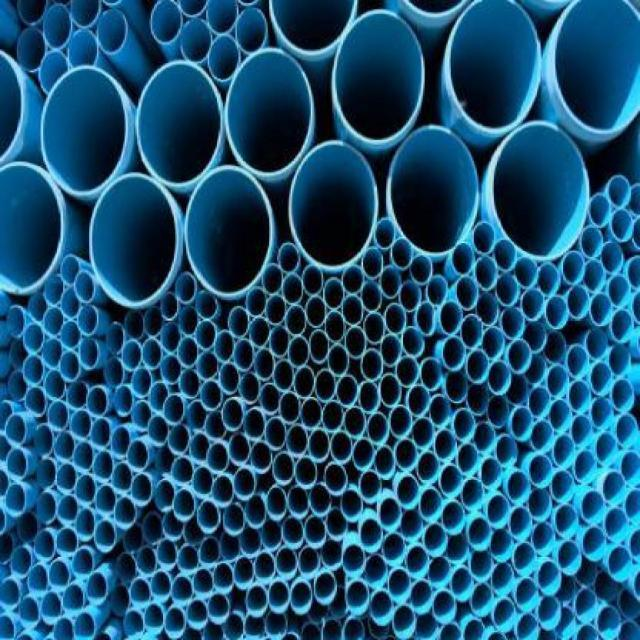pipe: (490, 122, 589, 261), (445, 1, 542, 135), (332, 9, 424, 145), (387, 124, 479, 258), (89, 174, 180, 308), (549, 0, 638, 135), (289, 142, 379, 273), (185, 166, 273, 299), (40, 65, 127, 198), (225, 47, 313, 177), (136, 60, 222, 188), (0, 162, 64, 295), (268, 0, 358, 57), (0, 44, 32, 167), (208, 33, 241, 81), (180, 17, 213, 64), (149, 0, 183, 44), (235, 9, 268, 54), (96, 8, 127, 55), (44, 3, 74, 50), (17, 27, 47, 72), (38, 50, 68, 95), (67, 30, 98, 68), (206, 0, 238, 35), (595, 604, 622, 640), (608, 546, 633, 583), (560, 251, 587, 285), (566, 285, 591, 321), (442, 335, 467, 371), (508, 339, 533, 375), (509, 505, 534, 541), (604, 508, 629, 544), (582, 526, 607, 562), (382, 532, 407, 568), (557, 540, 582, 576), (537, 560, 562, 596), (515, 577, 540, 613), (346, 581, 371, 617), (492, 598, 517, 634), (589, 292, 614, 327), (71, 0, 101, 29), (600, 241, 625, 275), (495, 272, 520, 306), (606, 274, 631, 308), (456, 276, 481, 310), (544, 296, 569, 330), (466, 350, 491, 384), (610, 378, 635, 412), (529, 454, 554, 488), (461, 478, 486, 512), (486, 495, 511, 529), (196, 500, 221, 534), (442, 501, 467, 535), (555, 504, 580, 538), (467, 517, 492, 551), (359, 519, 384, 553), (423, 523, 448, 557), (342, 543, 367, 577), (469, 549, 494, 583), (432, 591, 457, 625), (392, 606, 417, 640), (475, 255, 498, 291), (583, 258, 606, 294), (440, 300, 463, 336), (489, 361, 512, 397), (379, 373, 402, 409), (510, 406, 533, 442), (574, 448, 597, 484), (603, 471, 626, 507), (4, 482, 27, 518), (365, 554, 388, 590), (491, 561, 514, 597), (268, 578, 291, 614), (410, 579, 433, 615), (575, 587, 598, 623), (538, 595, 561, 631), (514, 256, 539, 289), (520, 288, 545, 321), (500, 307, 525, 340), (522, 321, 547, 354), (396, 355, 421, 388), (405, 384, 430, 417), (528, 387, 553, 420), (551, 471, 576, 504), (507, 471, 532, 504), (527, 488, 552, 521), (489, 529, 514, 562), (428, 556, 453, 589), (375, 445, 397, 481), (309, 483, 331, 519), (451, 567, 473, 603), (0, 577, 22, 613), (371, 590, 393, 626), (40, 591, 62, 627), (608, 175, 631, 209), (537, 262, 560, 296), (477, 292, 500, 326), (611, 309, 634, 343), (482, 326, 505, 360), (429, 394, 452, 428), (549, 400, 572, 434), (5, 412, 28, 446), (616, 413, 639, 447), (434, 429, 457, 463), (595, 432, 618, 466), (553, 434, 576, 468), (352, 437, 375, 471), (395, 438, 418, 472), (417, 451, 440, 485), (324, 462, 347, 496), (440, 464, 463, 498), (359, 470, 382, 504), (397, 475, 420, 509), (581, 491, 604, 525), (114, 496, 137, 530), (379, 498, 402, 532), (304, 515, 327, 549), (532, 522, 555, 556), (513, 543, 536, 577), (10, 545, 33, 579), (407, 546, 430, 580), (389, 569, 412, 603), (314, 572, 337, 606), (471, 583, 494, 617), (164, 606, 187, 640), (445, 534, 470, 565), (593, 572, 618, 603), (461, 314, 483, 349), (580, 225, 603, 258), (452, 242, 475, 275), (546, 364, 569, 397), (467, 384, 490, 417), (591, 397, 614, 430), (47, 399, 70, 432), (390, 405, 413, 438), (531, 420, 554, 453), (473, 422, 496, 455), (287, 424, 310, 457), (207, 442, 230, 475), (480, 457, 503, 490), (420, 489, 443, 522), (282, 517, 305, 550), (239, 525, 262, 558), (245, 585, 268, 618), (17, 595, 40, 628), (246, 494, 267, 530), (17, 1, 47, 26), (588, 192, 610, 226), (611, 208, 633, 242), (379, 265, 401, 299), (322, 276, 344, 310), (324, 310, 346, 344), (608, 343, 630, 377), (567, 345, 589, 379), (420, 358, 442, 392), (590, 361, 612, 395), (315, 369, 337, 403), (568, 379, 590, 413), (358, 380, 380, 414), (487, 396, 509, 430), (301, 397, 323, 431), (221, 399, 243, 433), (367, 412, 389, 446), (265, 418, 287, 452), (308, 429, 330, 463), (331, 430, 353, 464), (496, 435, 518, 469), (457, 443, 479, 477), (6, 447, 28, 481), (272, 453, 294, 487), (234, 468, 256, 502), (287, 485, 309, 519), (340, 488, 362, 522), (326, 508, 348, 542), (74, 509, 96, 543), (260, 519, 282, 553), (34, 528, 56, 562), (275, 547, 297, 581), (254, 550, 276, 584), (291, 581, 313, 615), (555, 606, 577, 640), (391, 238, 413, 271), (361, 247, 383, 280), (261, 263, 283, 296), (75, 271, 97, 304), (361, 280, 383, 313), (305, 295, 327, 328), (285, 304, 307, 337), (364, 311, 386, 344), (345, 326, 367, 359), (585, 328, 607, 361), (545, 331, 567, 364), (380, 335, 402, 368), (288, 335, 310, 368), (42, 336, 64, 369), (361, 348, 383, 381), (293, 365, 315, 398), (238, 372, 260, 405), (336, 375, 358, 408), (278, 391, 300, 424), (322, 401, 344, 434), (245, 408, 267, 441), (454, 409, 476, 442), (571, 415, 593, 448), (55, 462, 77, 495), (191, 466, 213, 499), (212, 475, 234, 508), (400, 509, 422, 542), (298, 546, 320, 579), (116, 551, 138, 584), (617, 588, 639, 621), (6, 304, 26, 340), (309, 329, 329, 365), (189, 432, 210, 466), (229, 432, 250, 466), (224, 503, 245, 537), (95, 519, 116, 553), (87, 572, 108, 606), (410, 254, 433, 285), (399, 282, 422, 313), (59, 320, 82, 351), (402, 327, 425, 358), (23, 354, 46, 385), (445, 372, 468, 403), (200, 380, 223, 411), (17, 513, 40, 544), (56, 527, 79, 558), (342, 294, 364, 326), (620, 452, 639, 489), (61, 287, 82, 320), (229, 306, 250, 339), (91, 417, 112, 450), (169, 423, 190, 456), (128, 439, 149, 472), (251, 442, 272, 475), (95, 485, 116, 518), (174, 488, 195, 521), (156, 538, 177, 571), (278, 242, 300, 273), (302, 265, 324, 296), (281, 273, 303, 304), (426, 275, 448, 306), (385, 303, 407, 334), (248, 317, 270, 348), (328, 345, 350, 376), (58, 351, 80, 382), (524, 355, 546, 386), (44, 369, 66, 400), (7, 372, 29, 403), (25, 386, 47, 417), (186, 401, 208, 432), (345, 407, 367, 438), (71, 409, 93, 440), (147, 416, 169, 447), (411, 417, 433, 448), (295, 457, 317, 488), (219, 532, 241, 563), (321, 539, 343, 570), (177, 545, 199, 576), (72, 547, 94, 578), (48, 559, 70, 590), (27, 563, 49, 594), (186, 599, 208, 630), (79, 336, 99, 370), (255, 348, 275, 382), (132, 400, 152, 434), (33, 423, 53, 457), (111, 425, 131, 459), (112, 462, 132, 496), (132, 473, 152, 507), (267, 487, 287, 521), (234, 556, 254, 590), (66, 381, 89, 410), (204, 412, 227, 441), (575, 558, 598, 587), (269, 325, 289, 358), (214, 329, 234, 362), (234, 339, 254, 372), (104, 356, 124, 389), (274, 359, 294, 392), (132, 366, 152, 399), (260, 383, 280, 416), (74, 441, 94, 474), (93, 450, 113, 483), (36, 457, 56, 490), (76, 474, 96, 507), (156, 479, 176, 512), (36, 491, 56, 524), (151, 570, 171, 603), (246, 286, 267, 317), (196, 320, 217, 351), (178, 337, 199, 368), (87, 386, 108, 417), (164, 393, 185, 424), (198, 537, 219, 568), (208, 594, 229, 625), (417, 301, 435, 337), (57, 495, 80, 523), (162, 512, 185, 540), (265, 611, 288, 639), (74, 611, 97, 639), (342, 265, 364, 294), (265, 295, 287, 324), (171, 456, 193, 485), (191, 569, 213, 598), (171, 577, 193, 606), (63, 584, 85, 613), (179, 304, 198, 337), (161, 321, 180, 354), (106, 322, 125, 355), (150, 381, 169, 414), (115, 384, 134, 417), (144, 512, 163, 545), (112, 584, 131, 617), (416, 612, 439, 639), (60, 254, 80, 285), (125, 309, 145, 340), (24, 322, 44, 353), (142, 338, 162, 369), (9, 339, 29, 370), (122, 340, 142, 371), (219, 363, 239, 394), (137, 547, 157, 578), (213, 563, 233, 594), (329, 586, 349, 617), (144, 603, 164, 634), (197, 352, 219, 380), (54, 432, 76, 460), (224, 612, 246, 640), (179, 369, 200, 398), (517, 613, 539, 640), (144, 306, 163, 337), (124, 522, 143, 553), (123, 610, 144, 638), (44, 275, 64, 304), (79, 305, 99, 334), (160, 356, 180, 385), (243, 614, 266, 639), (43, 308, 63, 336), (130, 578, 150, 606), (196, 292, 217, 318), (0, 532, 16, 566), (29, 294, 48, 321), (343, 617, 366, 639), (463, 618, 486, 640), (182, 523, 204, 545), (53, 617, 75, 639), (617, 618, 639, 640), (627, 181, 640, 217), (626, 255, 639, 291), (321, 619, 343, 639), (437, 623, 464, 639), (0, 614, 17, 639), (629, 527, 640, 564), (575, 623, 600, 639), (300, 622, 322, 639)
